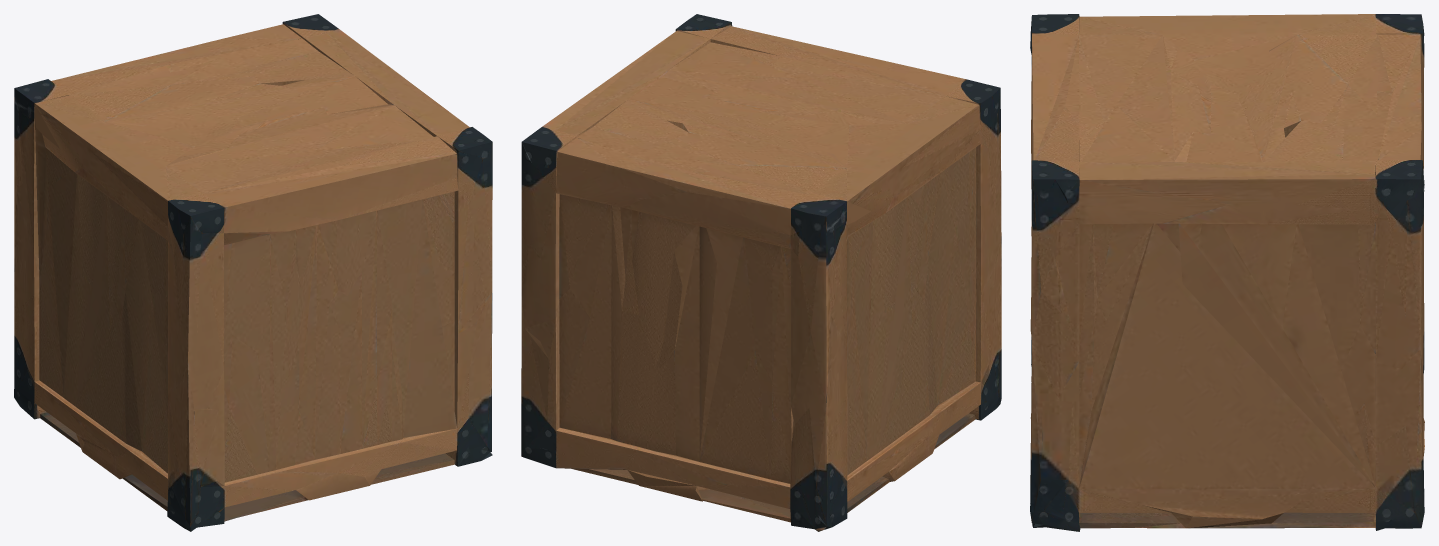
The model's file is crate.glb.
The picture shows the model from 3 angles, left to right: view 1: azimuth 30°, elevation 25°; view 2: azimuth 150°, elevation 25°; view 3: azimuth 270°, elevation 25°; orthographic projection. The views are drawn at different scales.
Bounding box in the file's own units: 1.9 × 1.87 × 1.9.
Materials: 1 (1 with a texture image).
